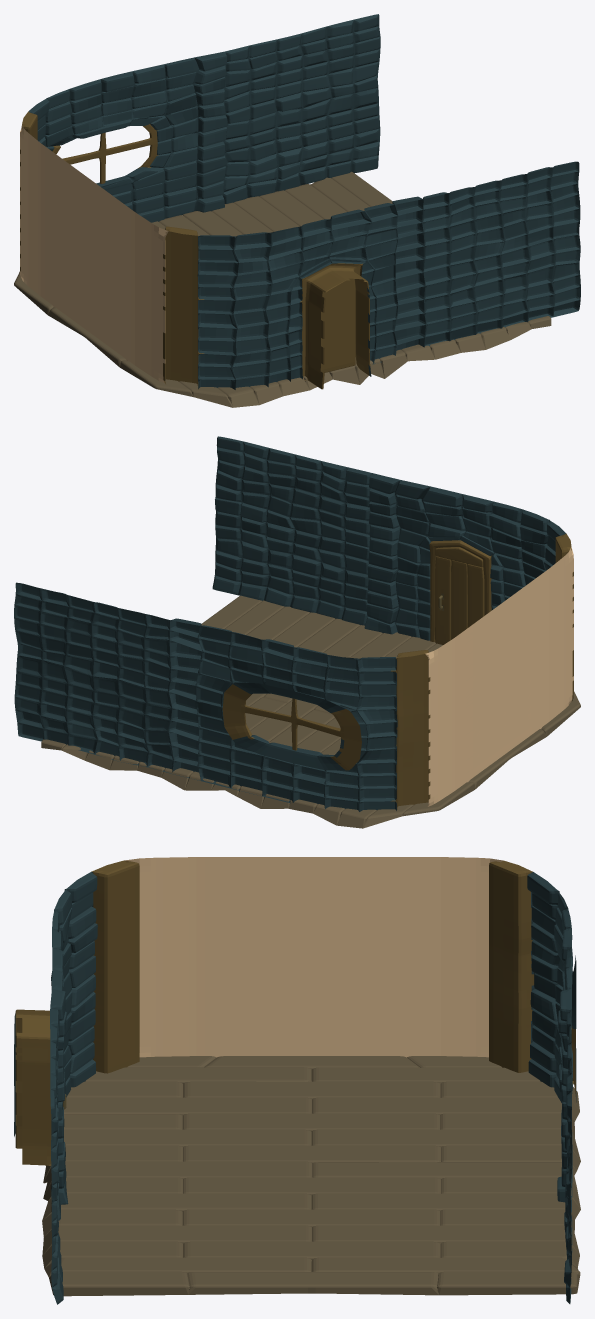
The model's file is environmentModel2.fbx.
3 views of the same model, one above another, from view 1: azimuth 30°, elevation 25°; view 2: azimuth 150°, elevation 25°; view 3: azimuth 270°, elevation 25° (orthographic). The views are drawn at different scales.
Parts seen in each view (by area): view 1: Walls, Floor, Walls.001; view 2: Walls, Floor, Walls.001; view 3: Floor, Walls.
Boxes of the visible parts, <box> form: Walls: <box>20,14,580,389</box>; Floor: <box>14,171,551,407</box>; Walls.001: <box>320,278,355,372</box>; Walls: <box>14,436,573,811</box>; Floor: <box>41,595,580,828</box>; Walls.001: <box>435,547,484,644</box>; Floor: <box>42,1056,580,1296</box>; Walls: <box>14,857,576,1304</box>.
Size of the model in its own units: 7.82 by 3.21 by 7.45.
